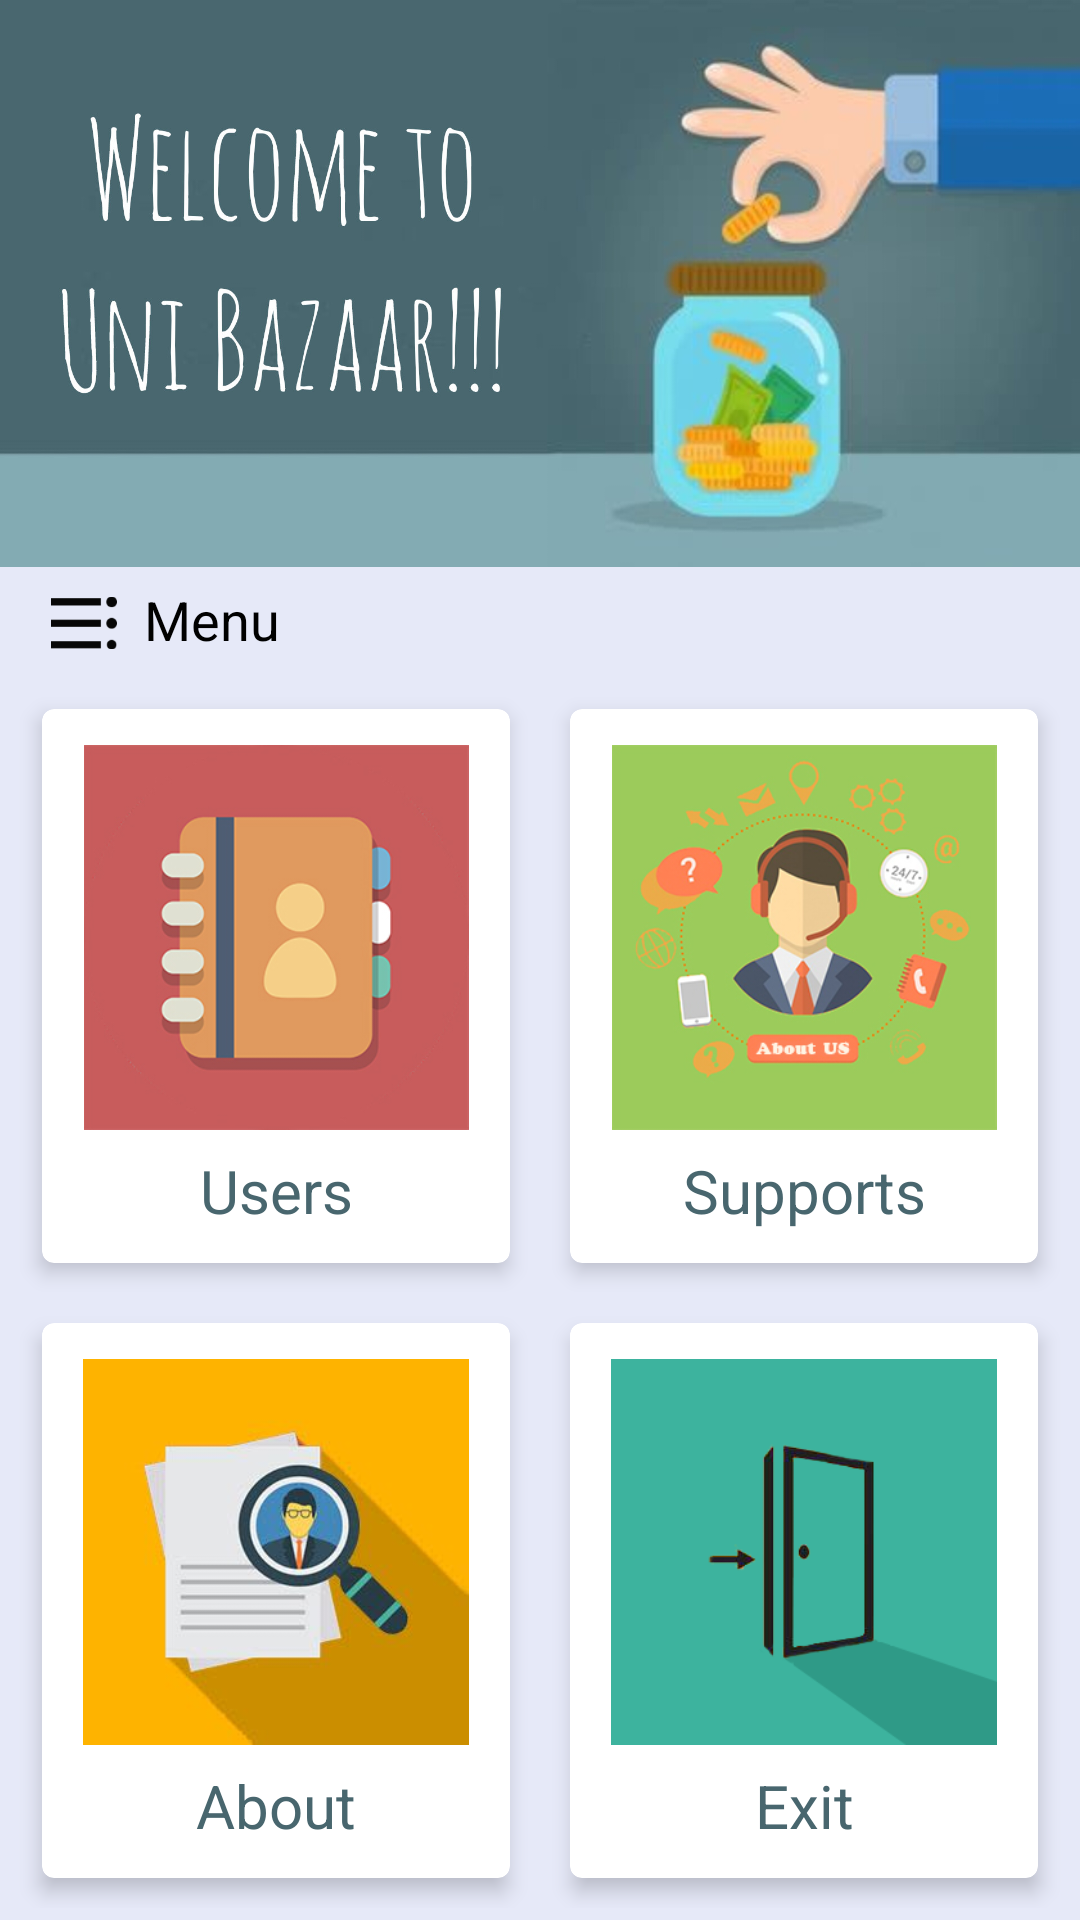

Icon click points for this 1080px x 1920px phone screenshot, format (x,y):
list: (84,623)
